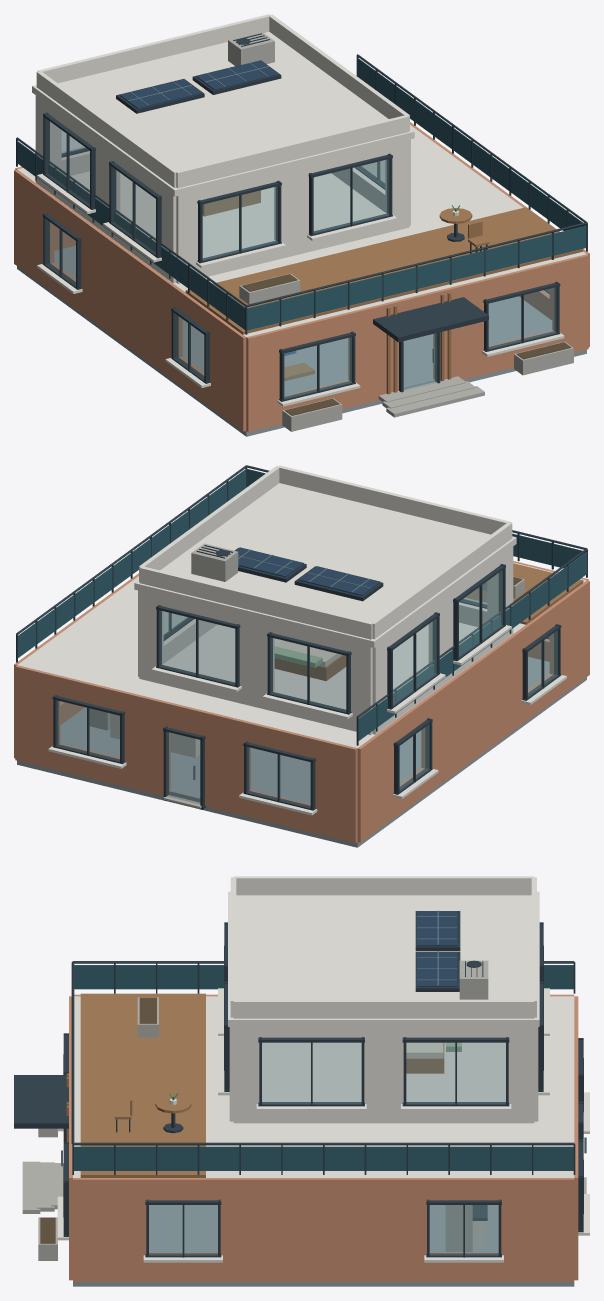
The model's file is House_7.fbx.
3 views of the same model, one above another, from view 1: azimuth 30°, elevation 25°; view 2: azimuth 150°, elevation 25°; view 3: azimuth 270°, elevation 25° (orthographic). The views are drawn at different scales.
Visible parts, largest first — view 1: House_7; view 2: House_7; view 3: House_7.
Part boxes in pixels (x1,y1,x2,y2): House_7: (14, 14, 589, 436); House_7: (14, 465, 589, 847); House_7: (14, 876, 589, 1286).
Size of the model in its own units: 12.87 by 7.32 by 16.09.
